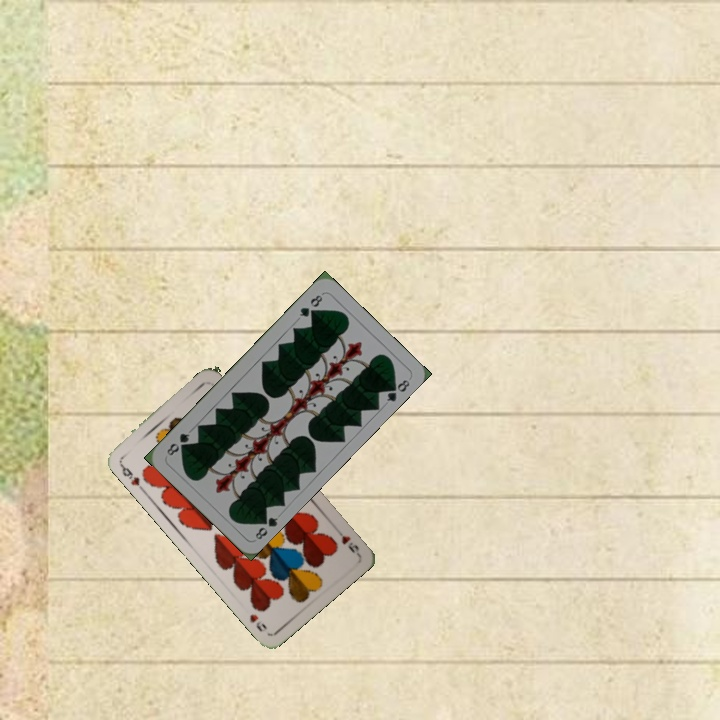G8: (251, 511, 281, 542), (295, 291, 325, 320)
H9: (331, 523, 362, 557), (116, 459, 146, 493)
